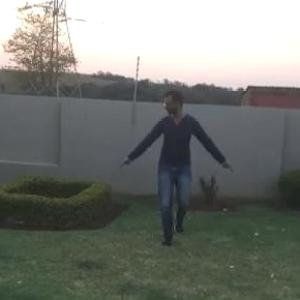land: (118, 88, 241, 262)
